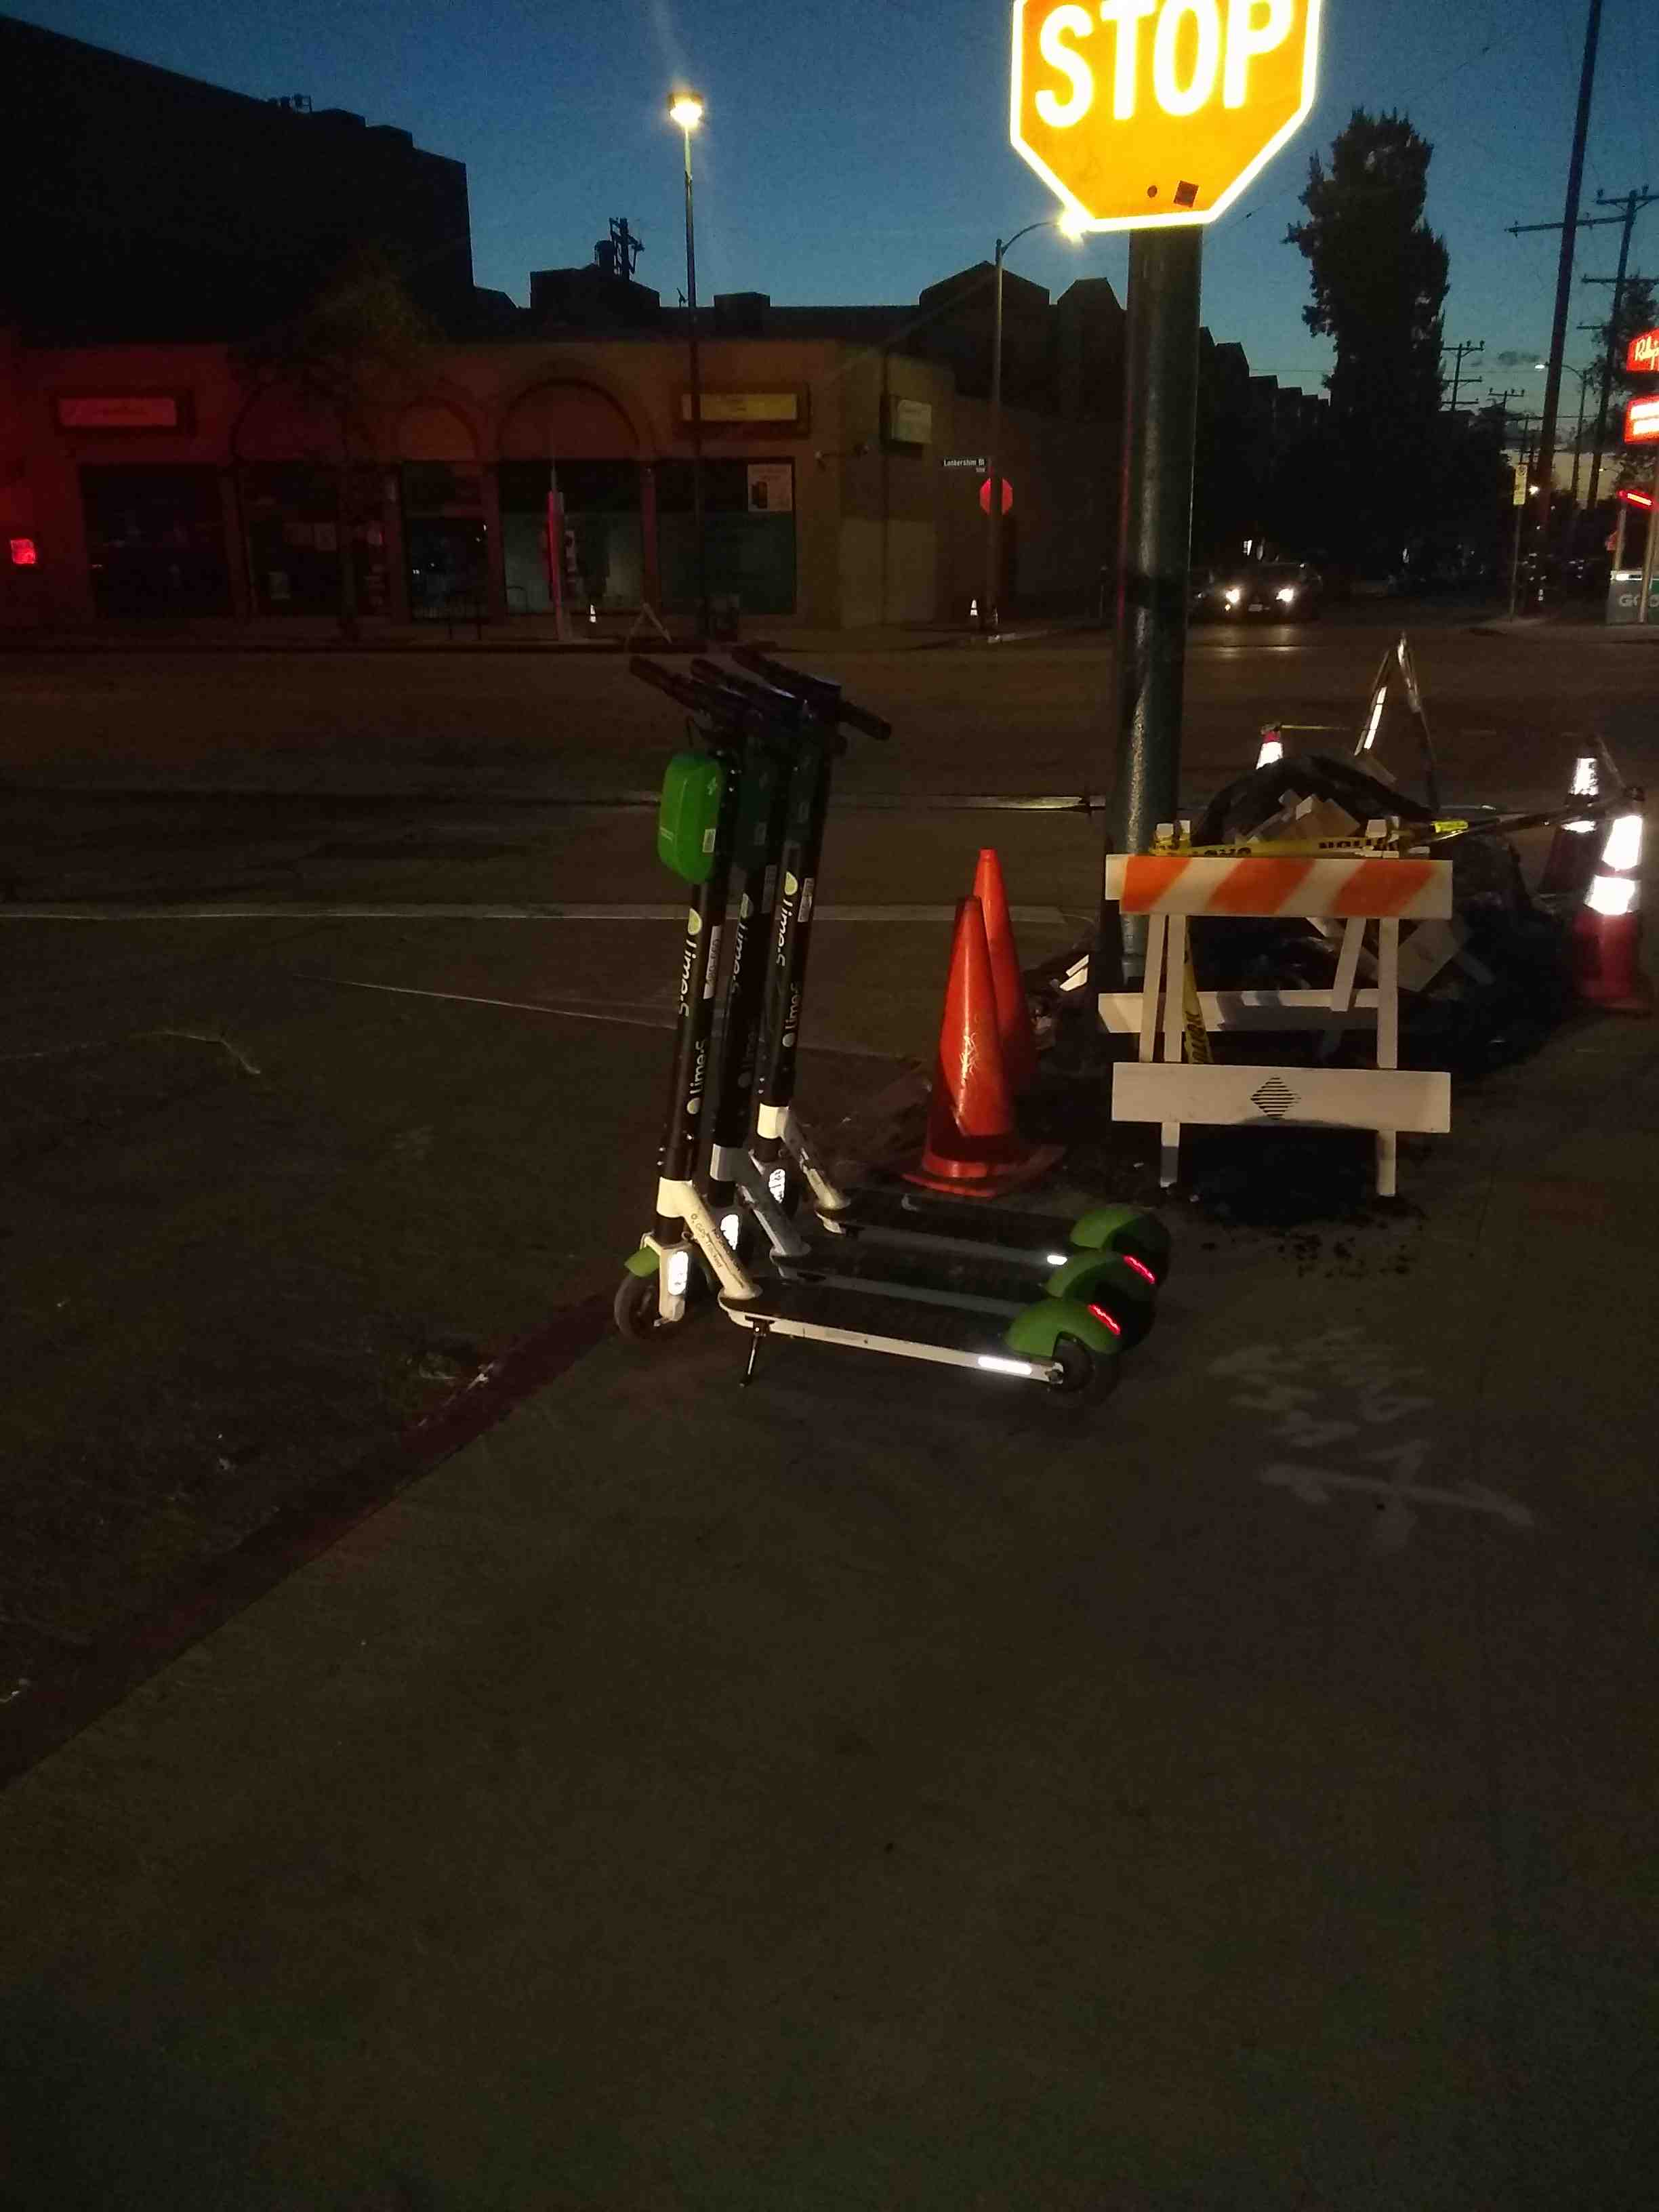too close: (545, 1237, 746, 1399)
